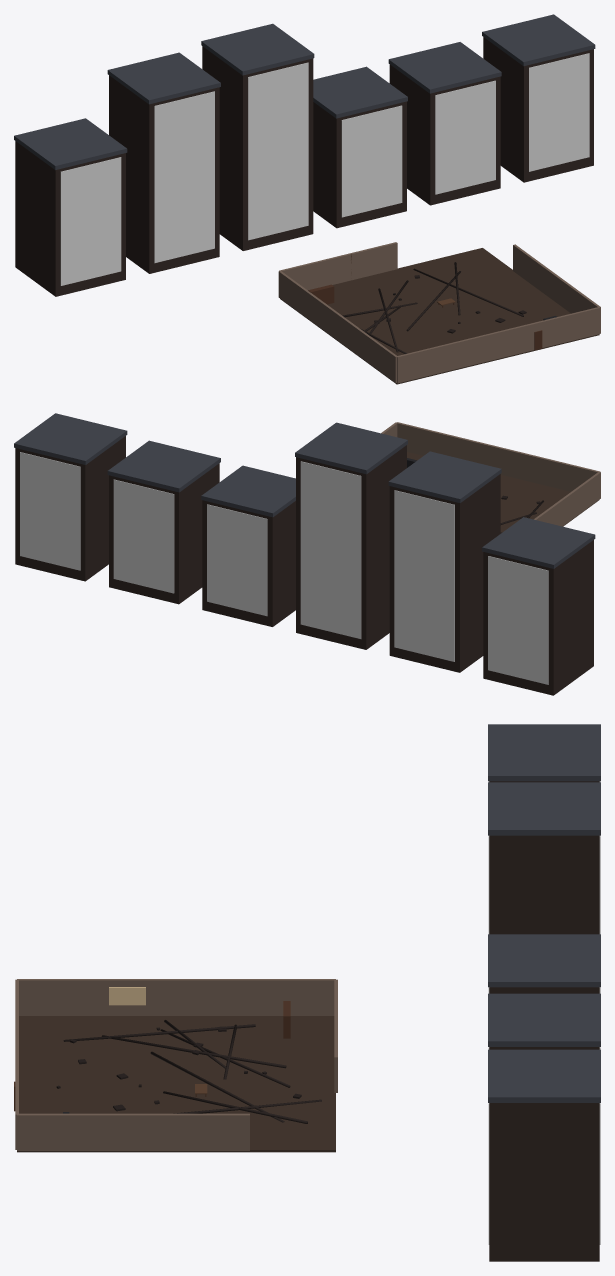
File: apartment.glb
3 views of the same model, one above another, from view 1: azimuth 30°, elevation 25°; view 2: azimuth 150°, elevation 25°; view 3: azimuth 270°, elevation 25° (orthographic). The views are drawn at different scales.
Visible parts, largest first — view 1: apartment_-1_0, apartment_0_0, apartment_0_-1; view 2: apartment_-1_0, apartment_0_0, apartment_0_-1; view 3: apartment_0_0, apartment_-1_0, apartment_0_-1, apartment_-1_-1.
Part boxes in pixels (x1,y1,x2,y2): apartment_-1_0: (14,23,417,382); apartment_0_0: (280,14,599,384); apartment_0_-1: (397,244,600,383); apartment_-1_0: (295,422,600,695); apartment_0_0: (14,413,598,626); apartment_0_-1: (381,422,600,491); apartment_0_0: (17,934,600,1261); apartment_-1_0: (17,724,600,1092); apartment_0_-1: (14,979,249,1150); apartment_-1_-1: (63,987,255,1079).
Size of the model in its own units: 69.2 by 22.28 by 47.85.
